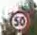limite 50: (8, 10, 29, 30)
